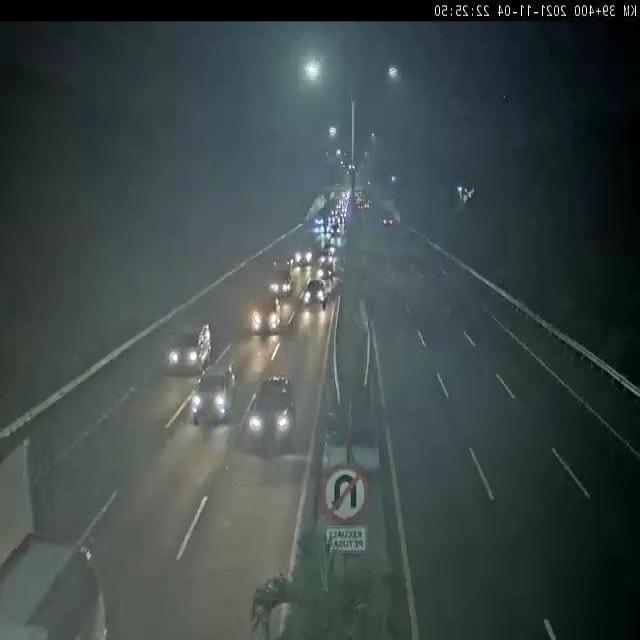Car: (247, 374, 299, 446), (190, 362, 235, 428), (251, 295, 279, 333), (304, 281, 328, 308), (269, 273, 292, 296), (292, 246, 312, 265), (319, 250, 334, 264)
Van: (164, 314, 211, 375)
